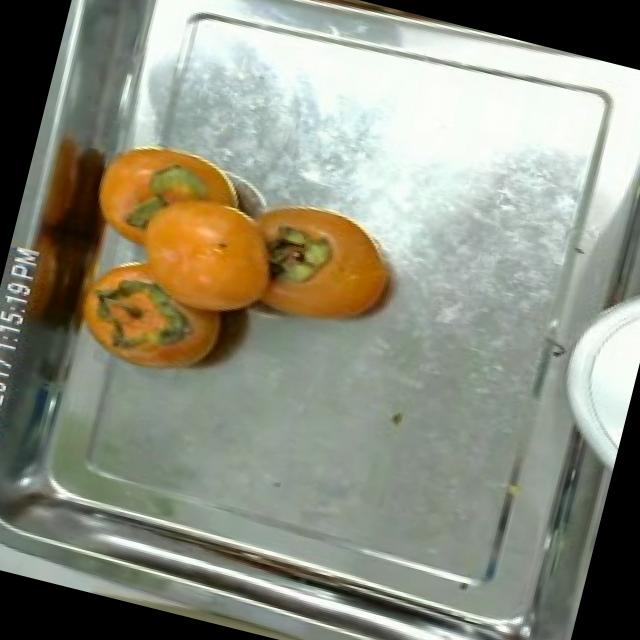Fruit: (107, 148, 304, 342), (62, 262, 234, 394)
